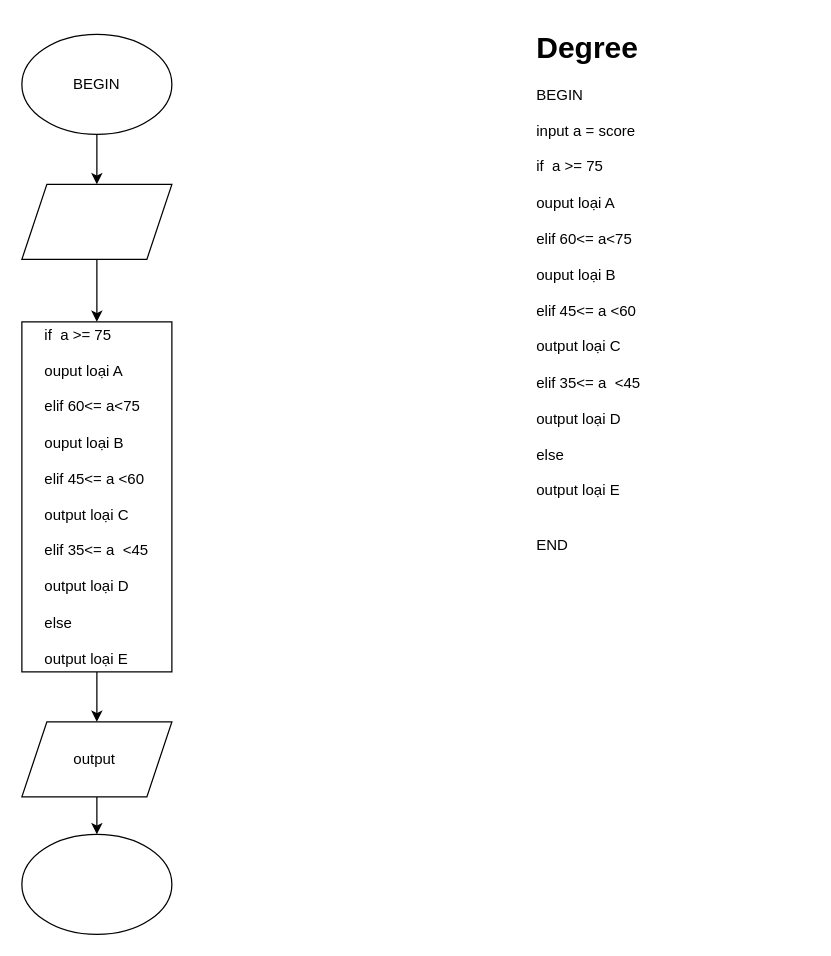
Some shapes in this 831 by 956 pixel diagram are drawn without their labels. The box of each missing label's shape, as (x1, y1, x2, y2) in pixels:
END: (21, 833, 172, 934)
input a =score: (21, 183, 172, 259)
